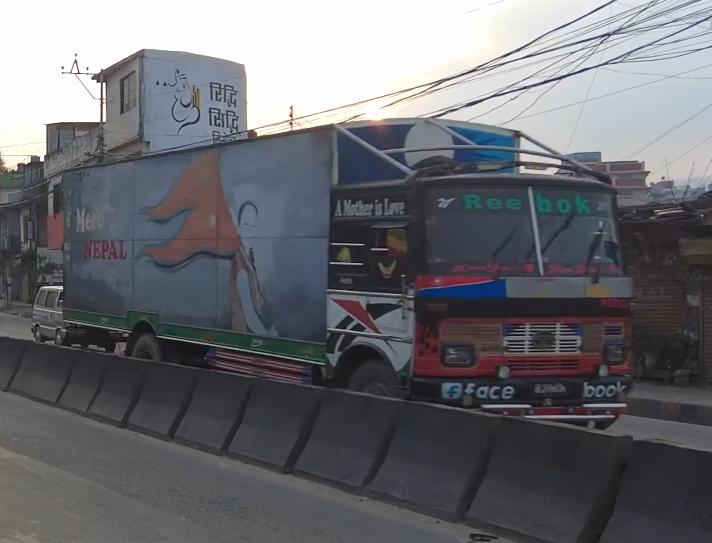bike: (30, 282, 120, 352)
truck: (58, 116, 635, 429)
